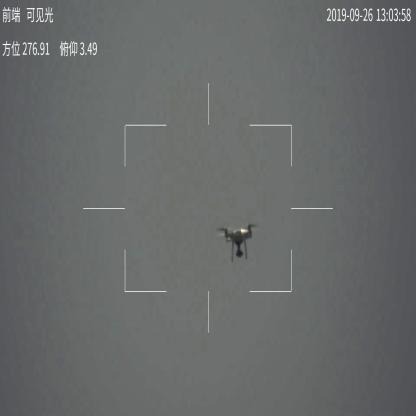uav: (216, 222, 262, 263)
